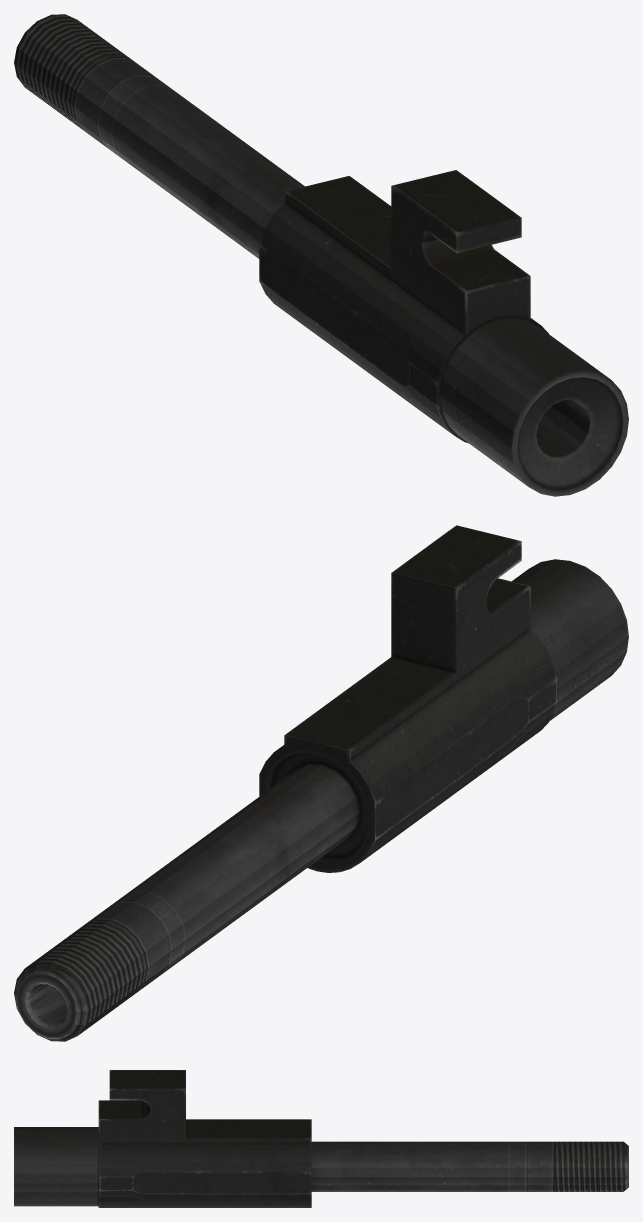
3 renders of one model, top to bottom at view 1: azimuth 30°, elevation 25°; view 2: azimuth 150°, elevation 25°; view 3: azimuth 270°, elevation 25°, orthographic. The views are drawn at different scales.
Visible parts, largest first — view 1: TW_5d3eb59ea4b9361c284bb4b2_PZ_Import; view 2: TW_5d3eb59ea4b9361c284bb4b2_PZ_Import; view 3: TW_5d3eb59ea4b9361c284bb4b2_PZ_Import.
Boxes of the visible parts, left/top/right/bottom form: TW_5d3eb59ea4b9361c284bb4b2_PZ_Import: left=14, top=14, right=628, bottom=496; TW_5d3eb59ea4b9361c284bb4b2_PZ_Import: left=14, top=525, right=628, bottom=1041; TW_5d3eb59ea4b9361c284bb4b2_PZ_Import: left=14, top=1070, right=628, bottom=1207.
Size of the model in its own units: 0.0108 by 0.0819 by 0.0183.
Materials: 1 (1 with a texture image).
